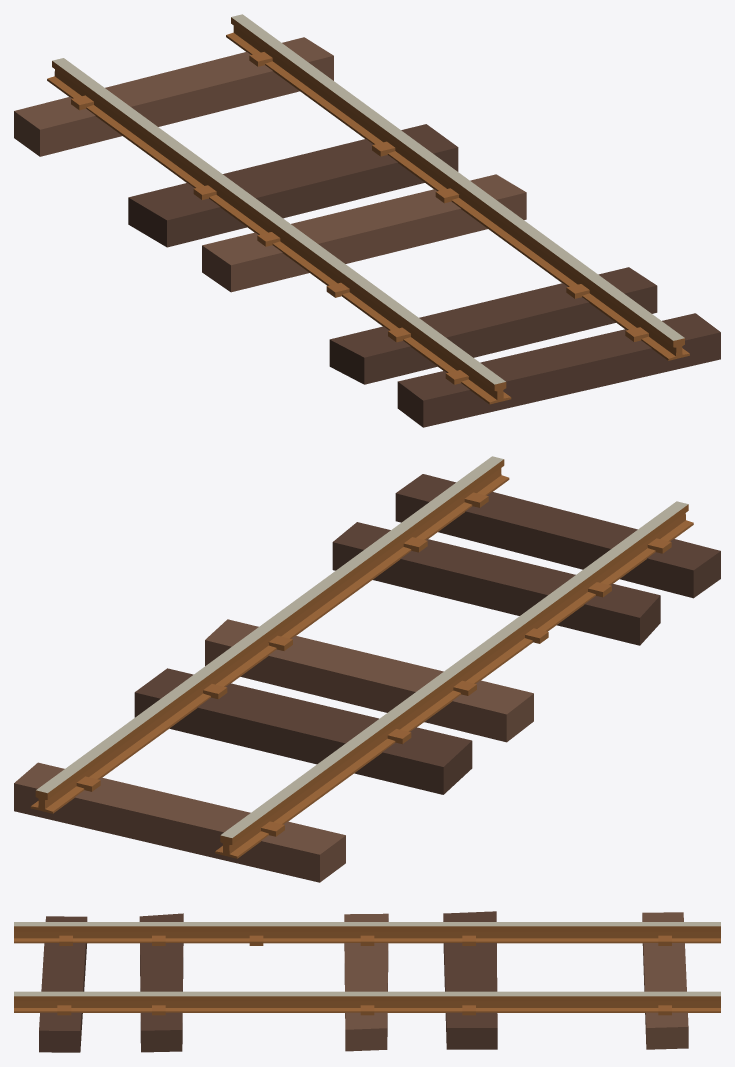
File: Train Track 6 M Old V01.glb
3 views of the same model, one above another, from view 1: azimuth 30°, elevation 25°; view 2: azimuth 150°, elevation 25°; view 3: azimuth 270°, elevation 25° (orthographic). The views are drawn at different scales.
Parts seen in each view (by area): view 1: Train Track 6 M Old v01; view 2: Train Track 6 M Old v01; view 3: Train Track 6 M Old v01.
Part boxes in pixels (x1,y1,x2,y2): Train Track 6 M Old v01: (14,14,720,427); Train Track 6 M Old v01: (14,456,720,882); Train Track 6 M Old v01: (14,911,720,1052).
Size of what is drawn, in the model's own units: 2.4 by 0.3385 by 6.
Materials: 1 (1 with a texture image).
